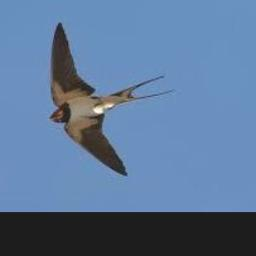Swallow: (47, 22, 174, 176)
